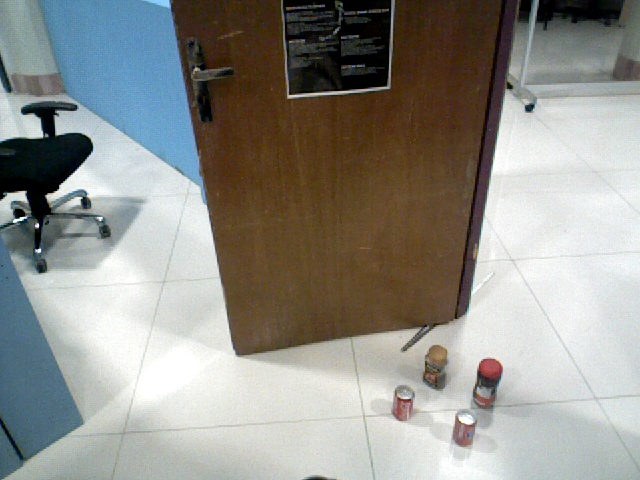coca: (390, 385, 415, 422)
coffee: (423, 344, 451, 390)
cream: (474, 357, 501, 410)
door_handle: (178, 31, 234, 128)
fanta: (454, 406, 477, 447)
